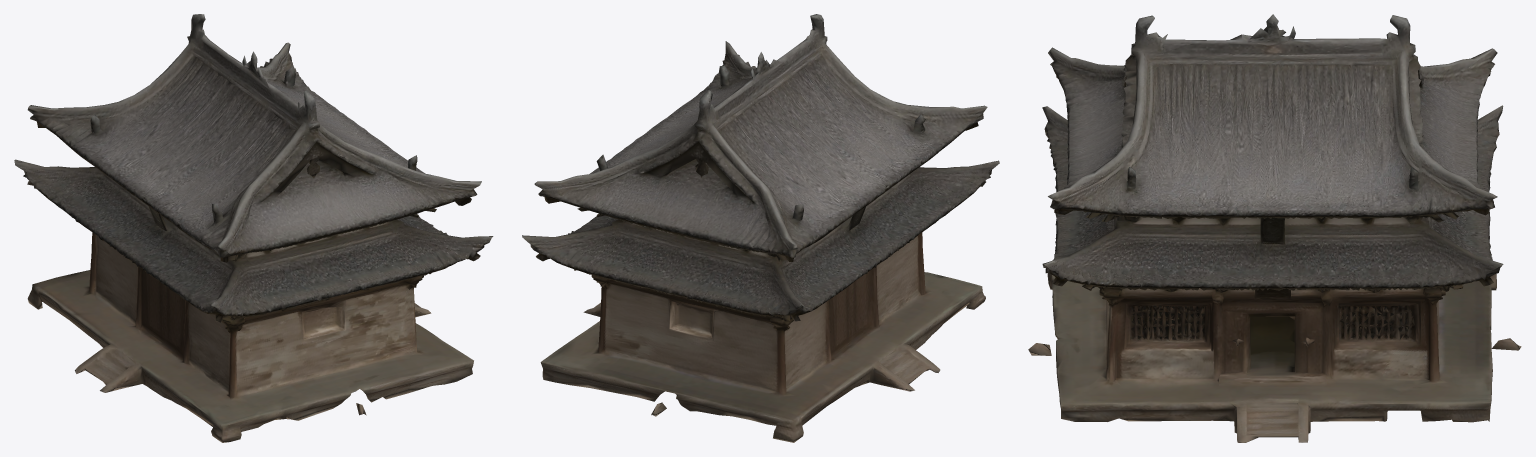
The model's file is building-tiantaian.glb.
The picture shows the model from 3 angles, left to right: view 1: azimuth 30°, elevation 25°; view 2: azimuth 150°, elevation 25°; view 3: azimuth 270°, elevation 25°; orthographic projection. The views are drawn at different scales.
Visible parts, largest first — view 1: node_c91170ff-d13d-4373-a073-2601ef57b2c3; view 2: node_c91170ff-d13d-4373-a073-2601ef57b2c3; view 3: node_c91170ff-d13d-4373-a073-2601ef57b2c3.
Boxes of the visible parts, bbox=[...] form: node_c91170ff-d13d-4373-a073-2601ef57b2c3: bbox=[14, 14, 493, 442]; node_c91170ff-d13d-4373-a073-2601ef57b2c3: bbox=[522, 14, 999, 442]; node_c91170ff-d13d-4373-a073-2601ef57b2c3: bbox=[1028, 14, 1521, 442].
Size of the model in its own units: 0.8921 by 0.7553 by 1.
Materials: 1 (1 with a texture image).
